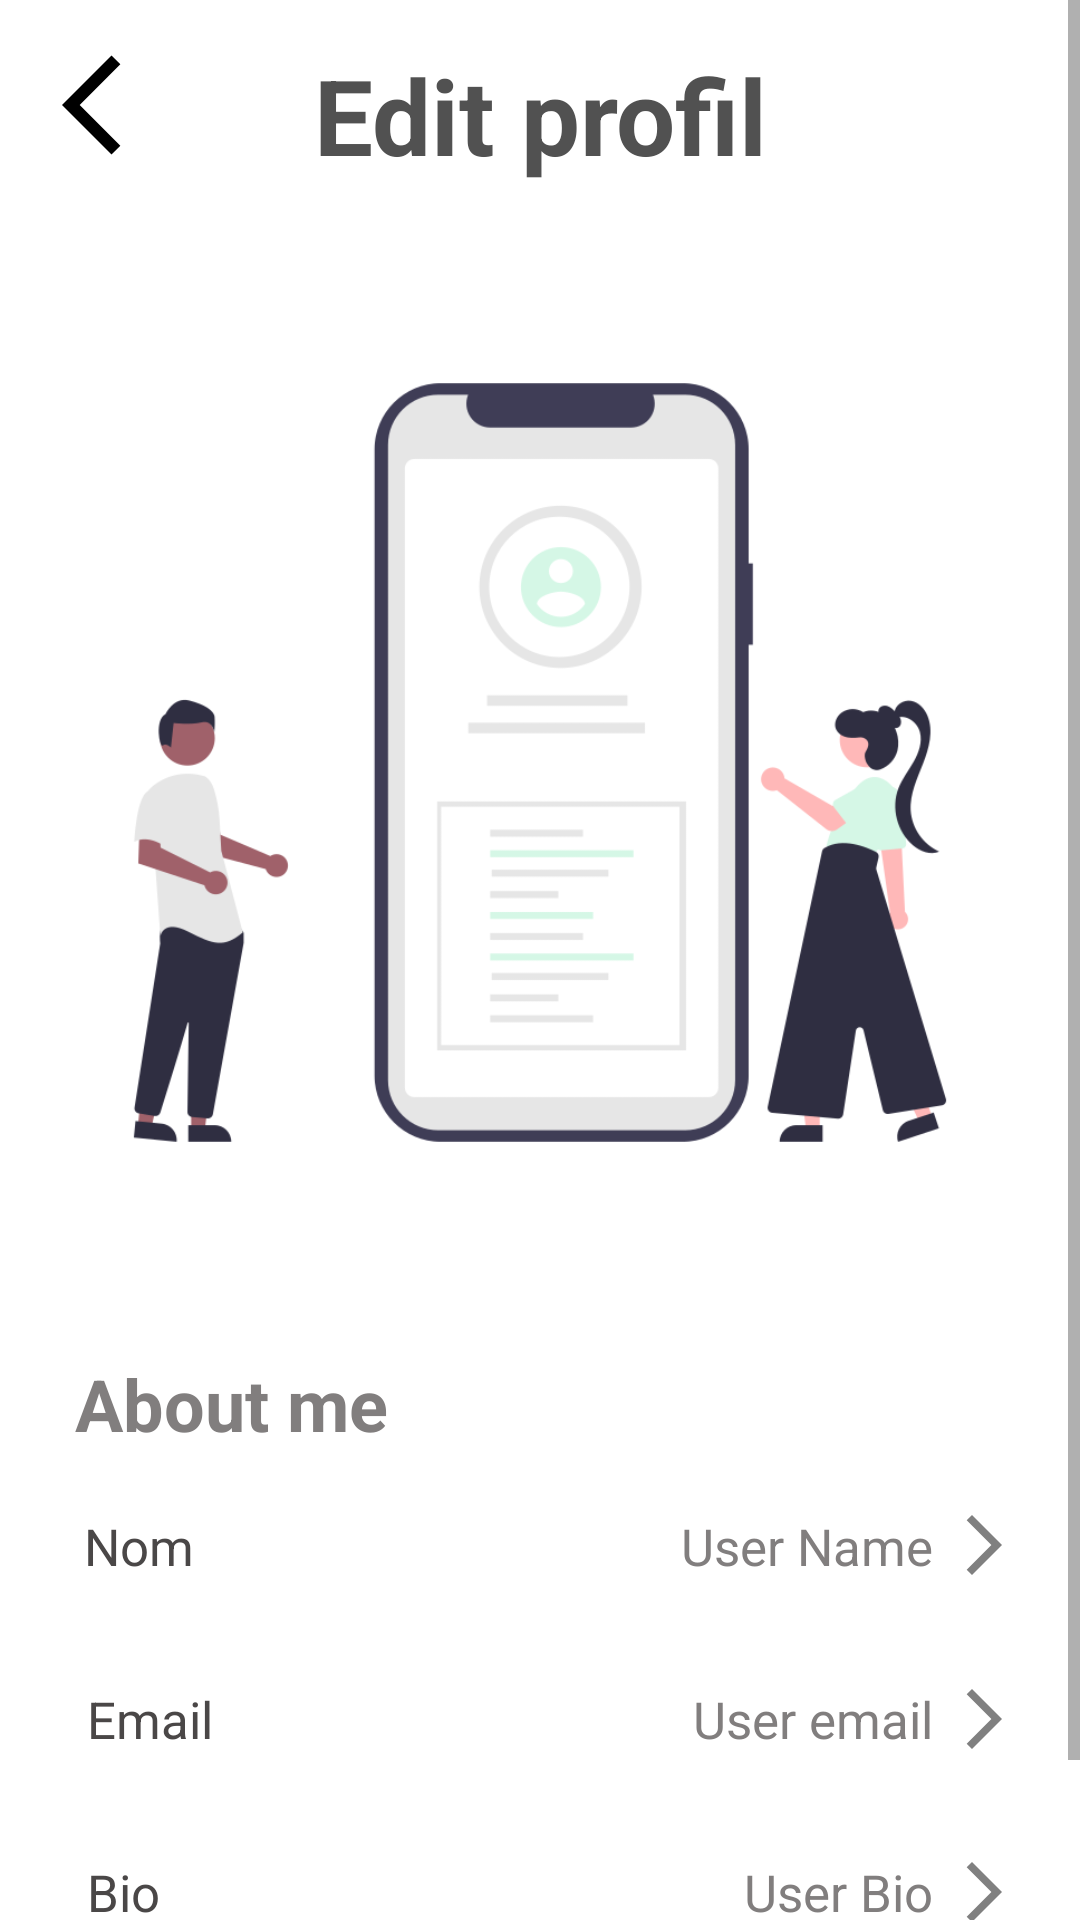

Screen size 1080 × 1920. Icon name, then its box in pixels as bbox=[x1, y1, x2, y2]:
backarrow: bbox=[62, 55, 121, 155]
